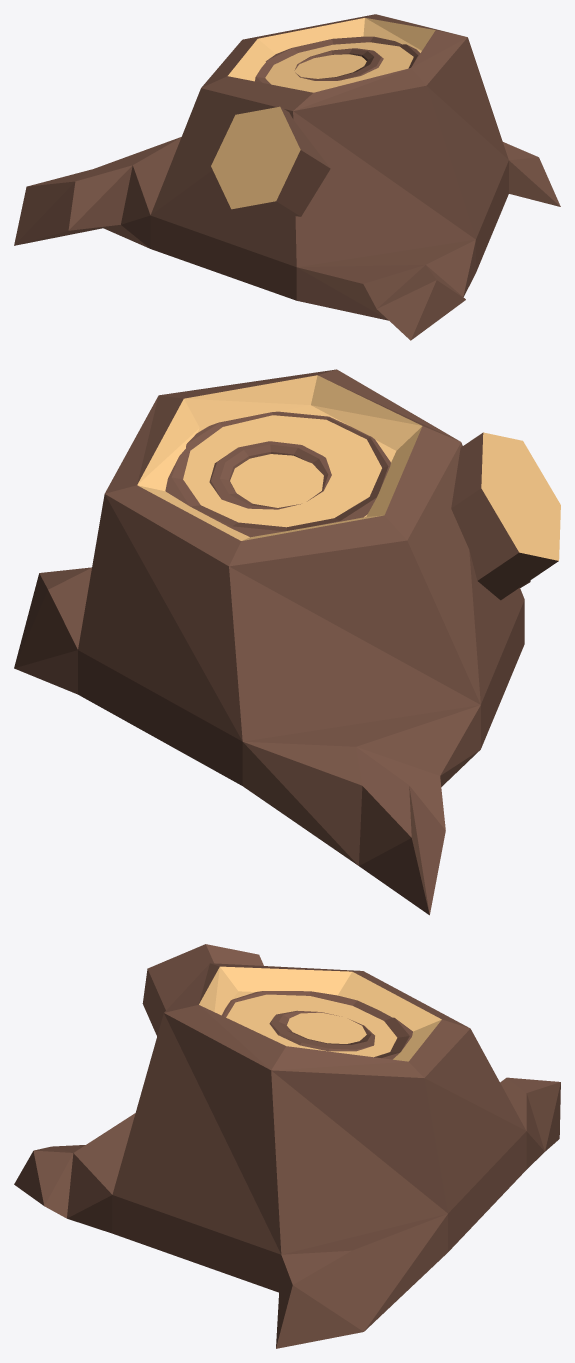
Rendered from tree_stump.glb.
3 renders of one model, top to bottom at view 1: azimuth 30°, elevation 25°; view 2: azimuth 150°, elevation 25°; view 3: azimuth 270°, elevation 25°, orthographic. The views are drawn at different scales.
Visible parts, largest first — view 1: Node; view 2: Node; view 3: Node.
Boxes of the visible parts, left/top/right/bottom form: Node: left=14, top=14, right=560, bottom=340; Node: left=14, top=369, right=560, bottom=915; Node: left=14, top=944, right=560, bottom=1348.
Bounding box in the file's own units: 0.1797 × 0.0946 × 0.1737.
